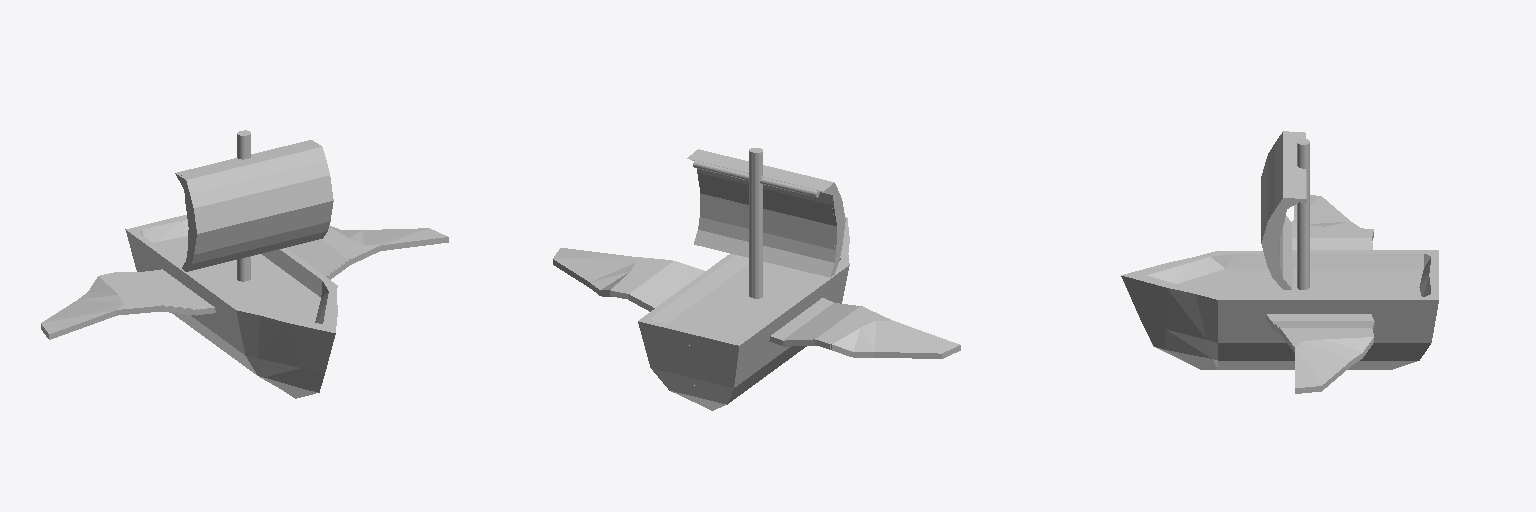
File: player.obj
The picture shows the model from 3 angles: view 1: azimuth 30°, elevation 25°; view 2: azimuth 150°, elevation 25°; view 3: azimuth 270°, elevation 25°; orthographic projection.
Parts seen in each view (by area): view 1: 立方体; view 2: 立方体; view 3: 立方体.
Part boxes in pixels (x1,y1,x2,y2): 立方体: (41, 130, 448, 398); 立方体: (553, 148, 960, 410); 立方体: (1121, 131, 1438, 393).
Bounding box in the file's own units: 41.28 × 22.54 × 28.48.